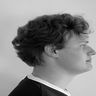ear: (39, 37, 63, 63)
